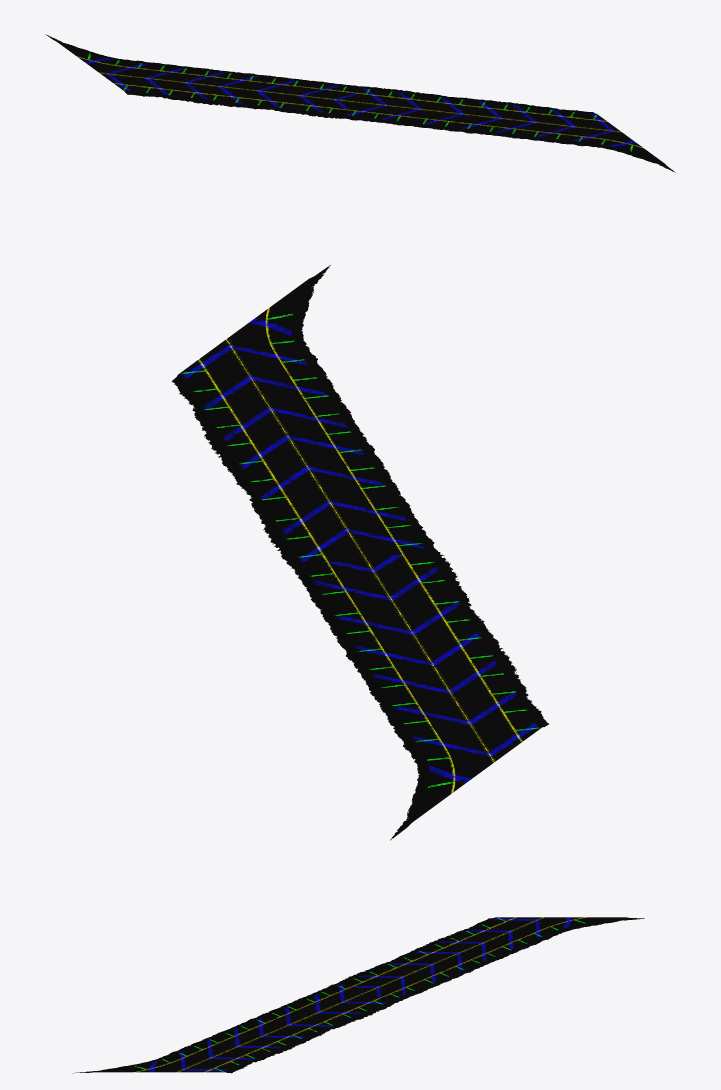
3 views of the same model, one above another, from view 1: azimuth 30°, elevation 25°; view 2: azimuth 150°, elevation 25°; view 3: azimuth 270°, elevation 25° (orthographic). The views are drawn at different scales.
Parts seen in each view (by area): view 1: SM_Road_Connection_04_LOD0; view 2: SM_Road_Connection_04_LOD0; view 3: SM_Road_Connection_04_LOD0.
Boxes of the visible parts, x1,y1,x2,y2 form: SM_Road_Connection_04_LOD0: (45, 34, 675, 172); SM_Road_Connection_04_LOD0: (172, 265, 548, 840); SM_Road_Connection_04_LOD0: (73, 917, 644, 1073).
Bounding box in the file's own units: 6636 × 12551 × 67.65.
Materials: 1 (1 with a texture image).
